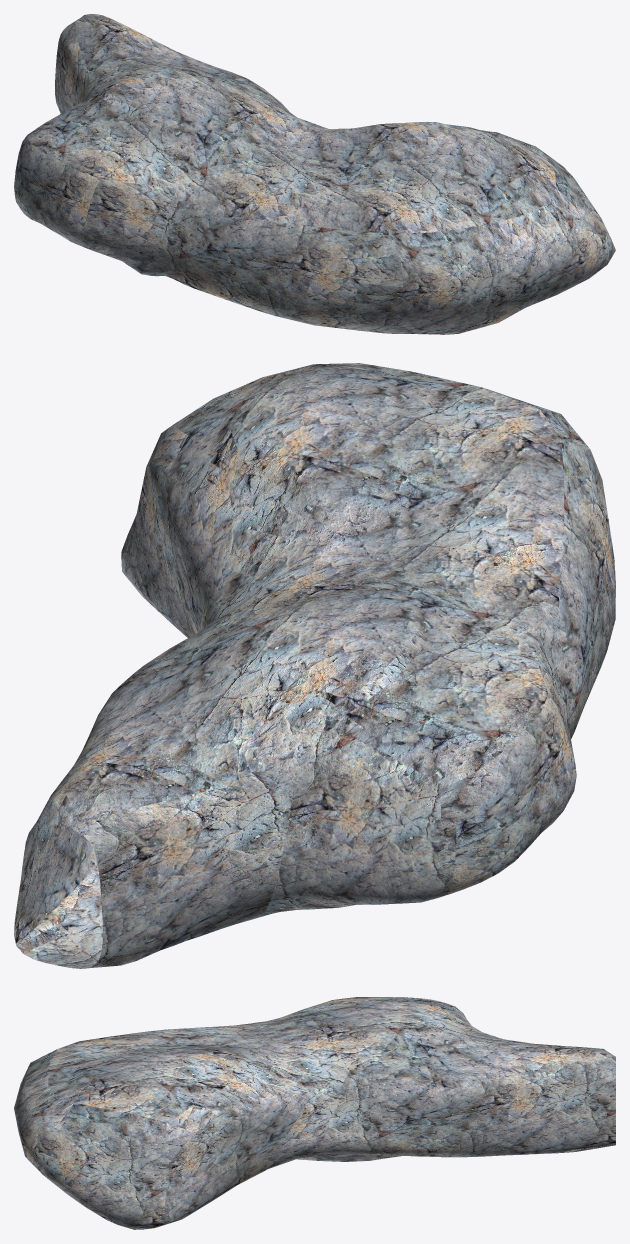
File: OccCave_01.DAE
The picture shows the model from 3 angles, top to bottom: view 1: azimuth 30°, elevation 25°; view 2: azimuth 150°, elevation 25°; view 3: azimuth 270°, elevation 25°; orthographic projection. The views are drawn at different scales.
Visible parts, largest first — view 1: CaveOne500; view 2: CaveOne500; view 3: CaveOne500.
Part boxes in pixels (x1,y1,x2,y2): CaveOne500: [14, 14, 615, 334]; CaveOne500: [14, 363, 615, 968]; CaveOne500: [14, 997, 615, 1229].
Size of what is drawn, in the model's own units: 112 by 167 by 43.45.
